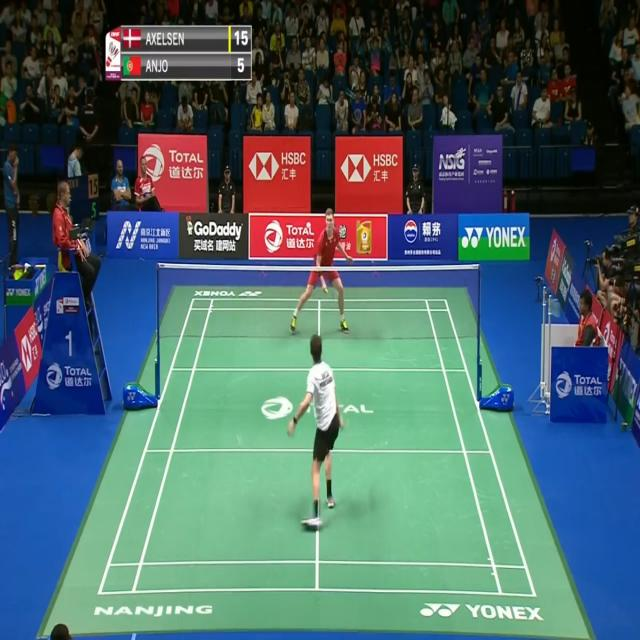Player1: (288, 334, 346, 532)
Player2: (288, 208, 354, 335)
